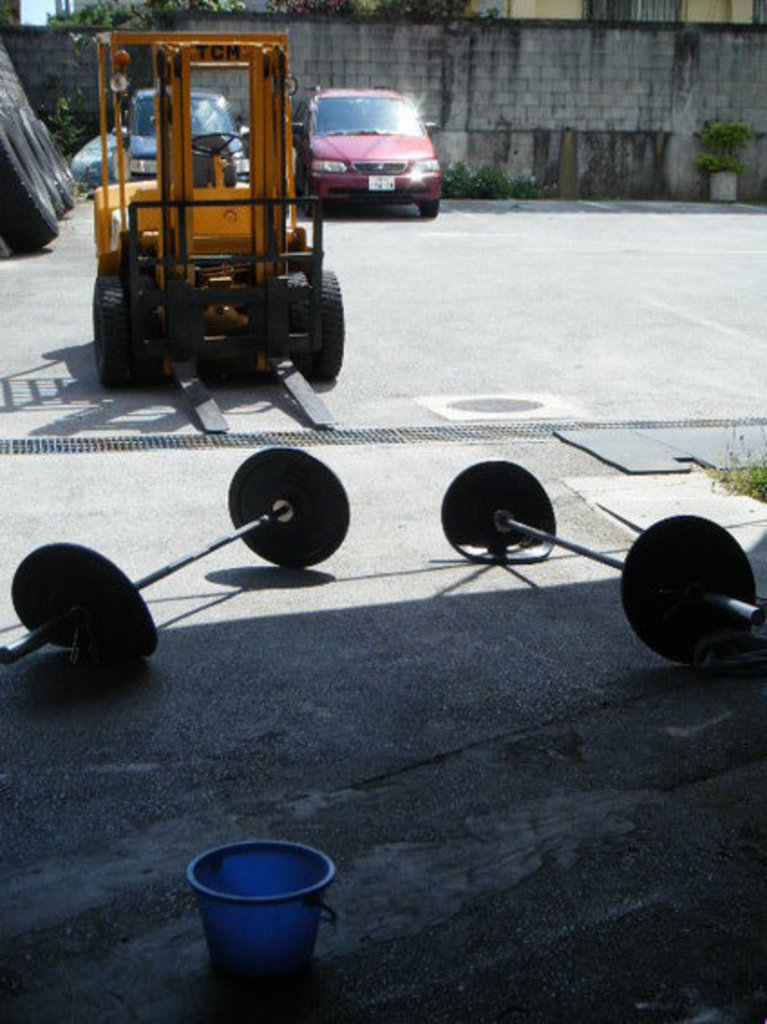Car: (293, 85, 441, 217), (112, 86, 249, 180)
